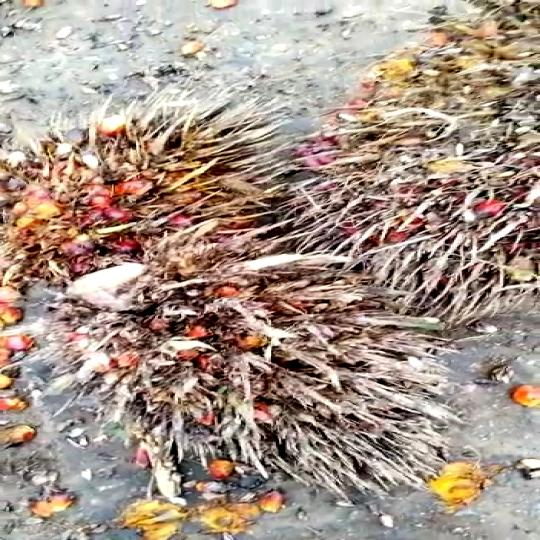terlalu masak: (57, 250, 468, 506), (0, 104, 312, 276)
